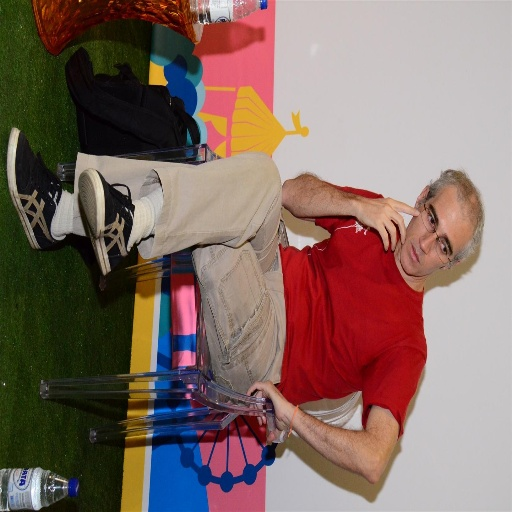hand: (359, 194, 420, 254), (256, 385, 301, 450)
